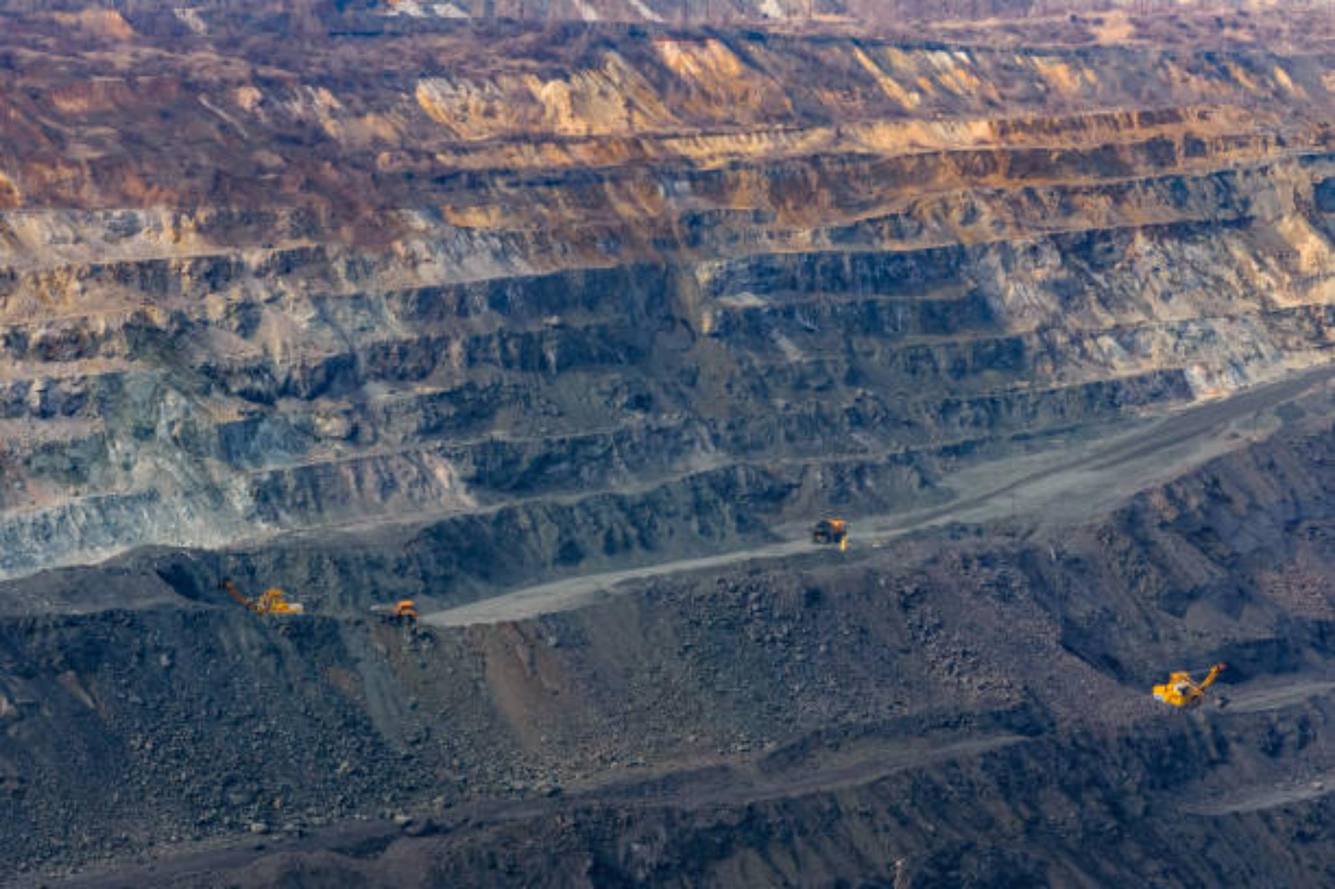excavator: (202, 579, 331, 628), (1152, 654, 1233, 721)
truck: (821, 513, 851, 555)
wall: (0, 155, 1333, 575)
